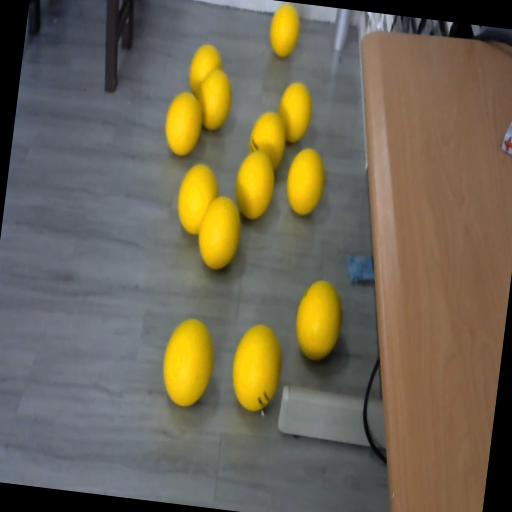FUEL: (226, 320, 288, 416), (158, 314, 218, 408), (292, 278, 346, 362), (174, 161, 222, 237), (282, 144, 328, 218), (232, 148, 278, 221), (162, 90, 206, 158), (194, 66, 236, 132), (276, 80, 316, 146), (266, 2, 302, 59)
